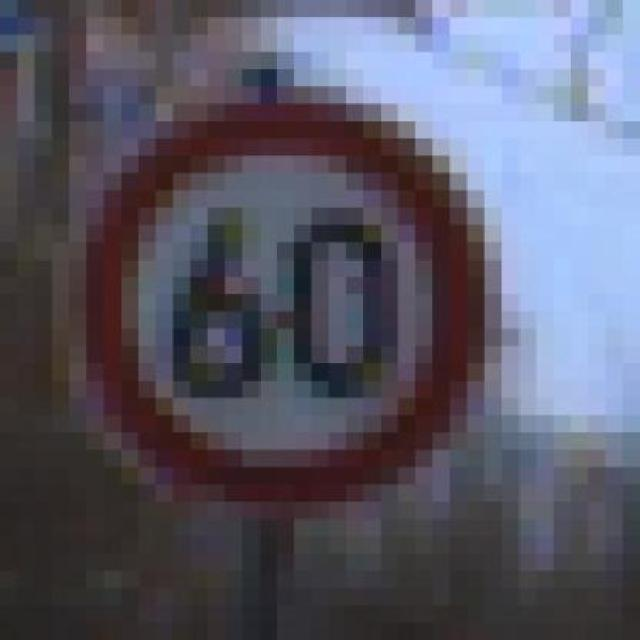forb_speed_over_60: (81, 100, 477, 505)
